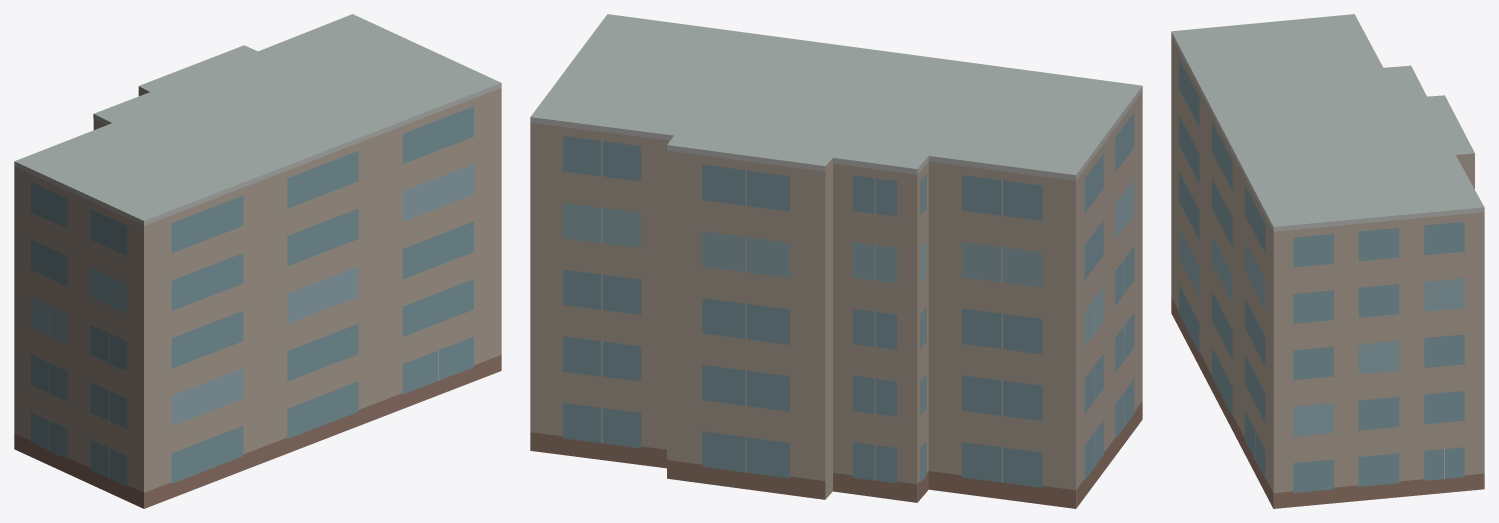
The model's file is survey-upis-32696859.glb.
The picture shows the model from 3 angles, left to right: view 1: azimuth 30°, elevation 25°; view 2: azimuth 150°, elevation 25°; view 3: azimuth 270°, elevation 25°; orthographic projection. The views are drawn at different scales.
Visible parts, largest first — view 1: survey-upis-32696859.tmp; view 2: survey-upis-32696859.tmp; view 3: survey-upis-32696859.tmp.
Boxes of the visible parts, x1,y1,x2,y2 form: survey-upis-32696859.tmp: [14, 14, 501, 508]; survey-upis-32696859.tmp: [530, 14, 1142, 508]; survey-upis-32696859.tmp: [1171, 14, 1484, 508].
Bounding box in the file's own units: 23.42 × 14.45 × 14.56.
